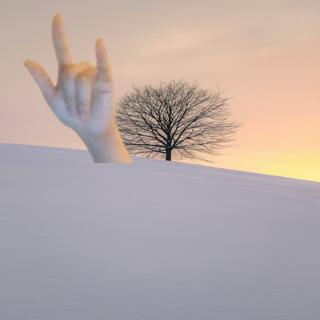ILY: (21, 12, 124, 136)
